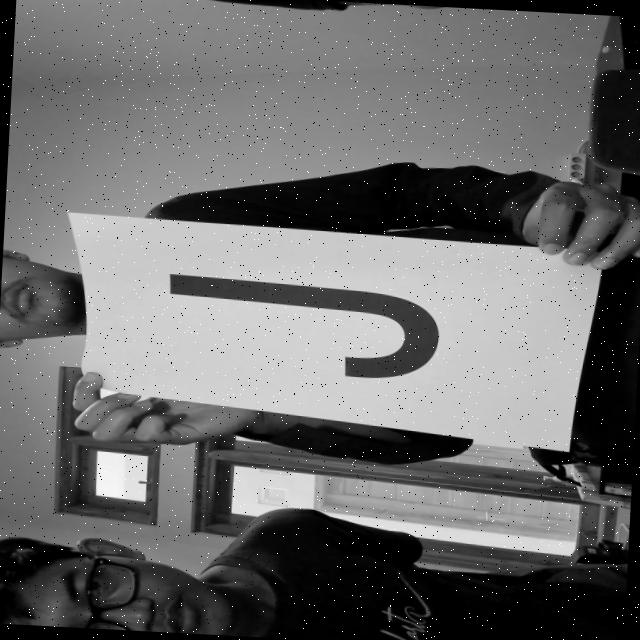j: (154, 254, 450, 391)
